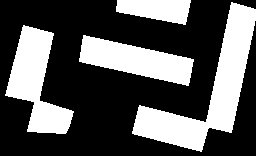parkingspot: (205, 2, 256, 132), (79, 35, 193, 85), (5, 25, 53, 102), (132, 105, 209, 151), (116, 0, 190, 24), (27, 99, 73, 133)
